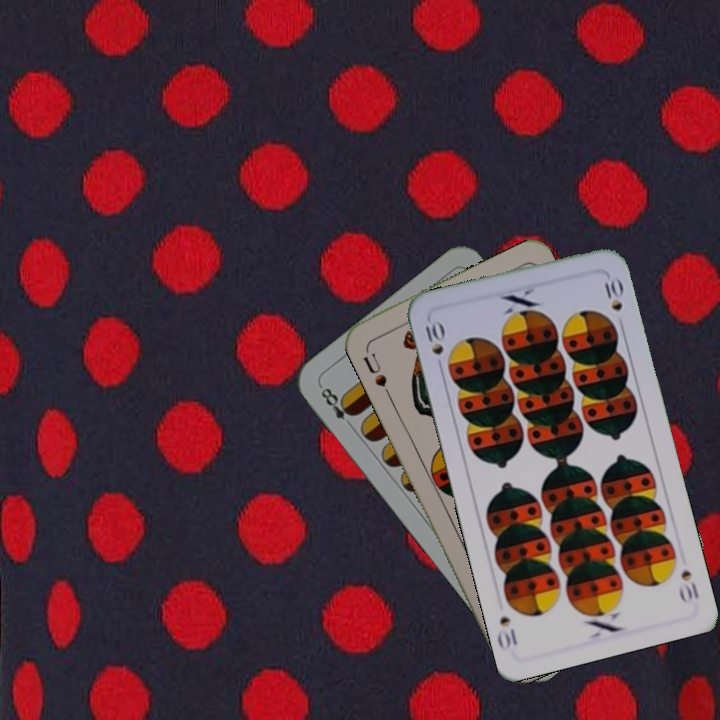E8: (316, 381, 359, 432)
S10: (420, 316, 447, 358), (675, 565, 702, 606)
SU: (359, 344, 394, 399)
